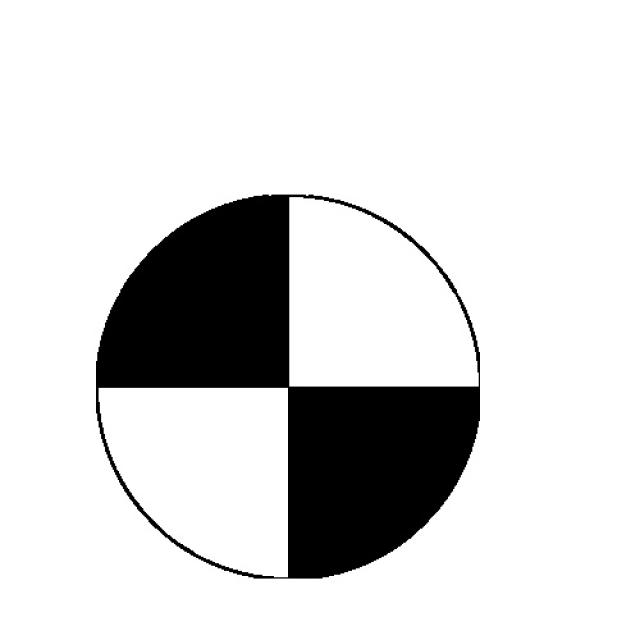Marcadores: (94, 196, 478, 579)
